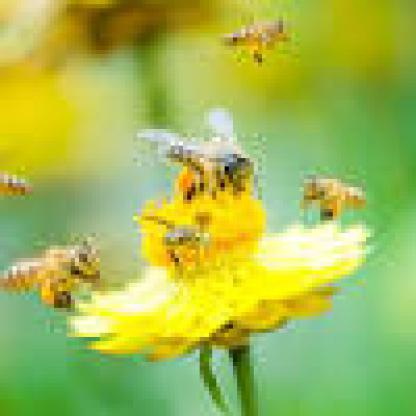other: (146, 108, 262, 212)
